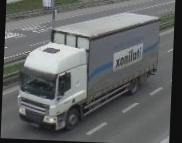truck: (14, 7, 163, 137)
